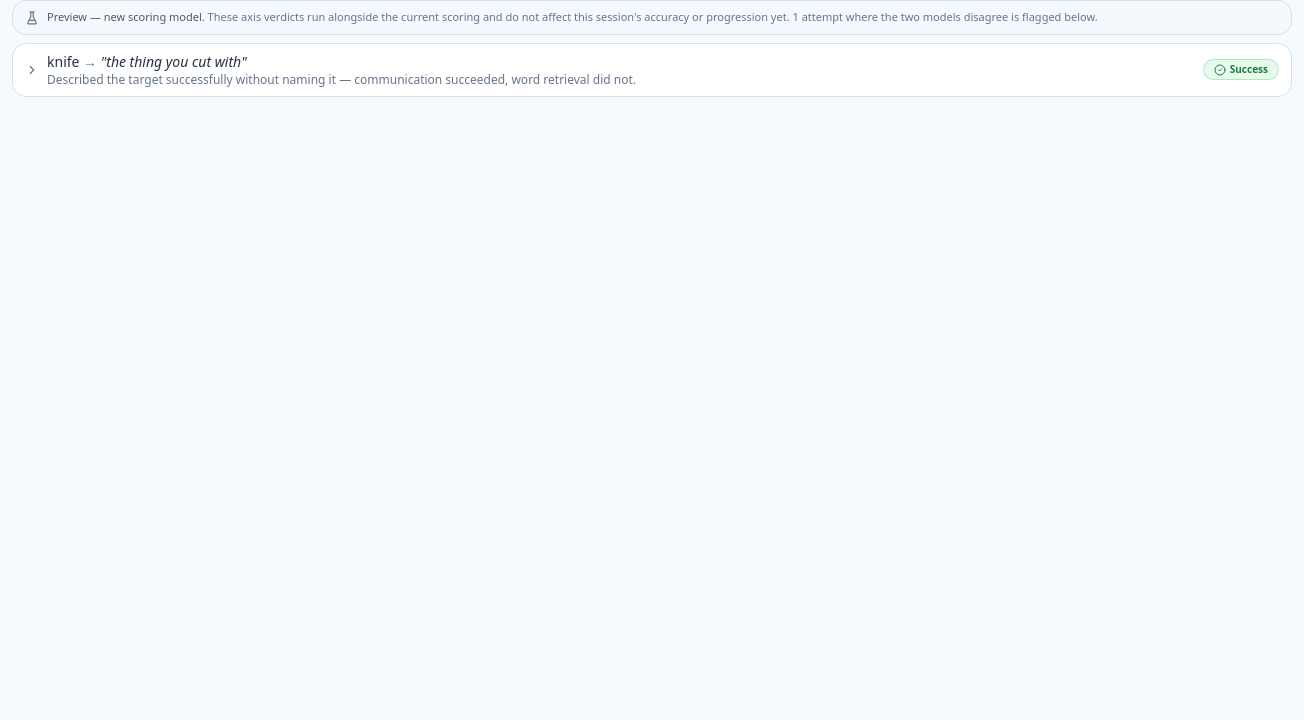
Scenario: AxisEvidencePanel › derives advisory axes from persisted evidence and tags them advisory (Phase 3)
Click the button at (63, 61), box [13,44,1291,96]
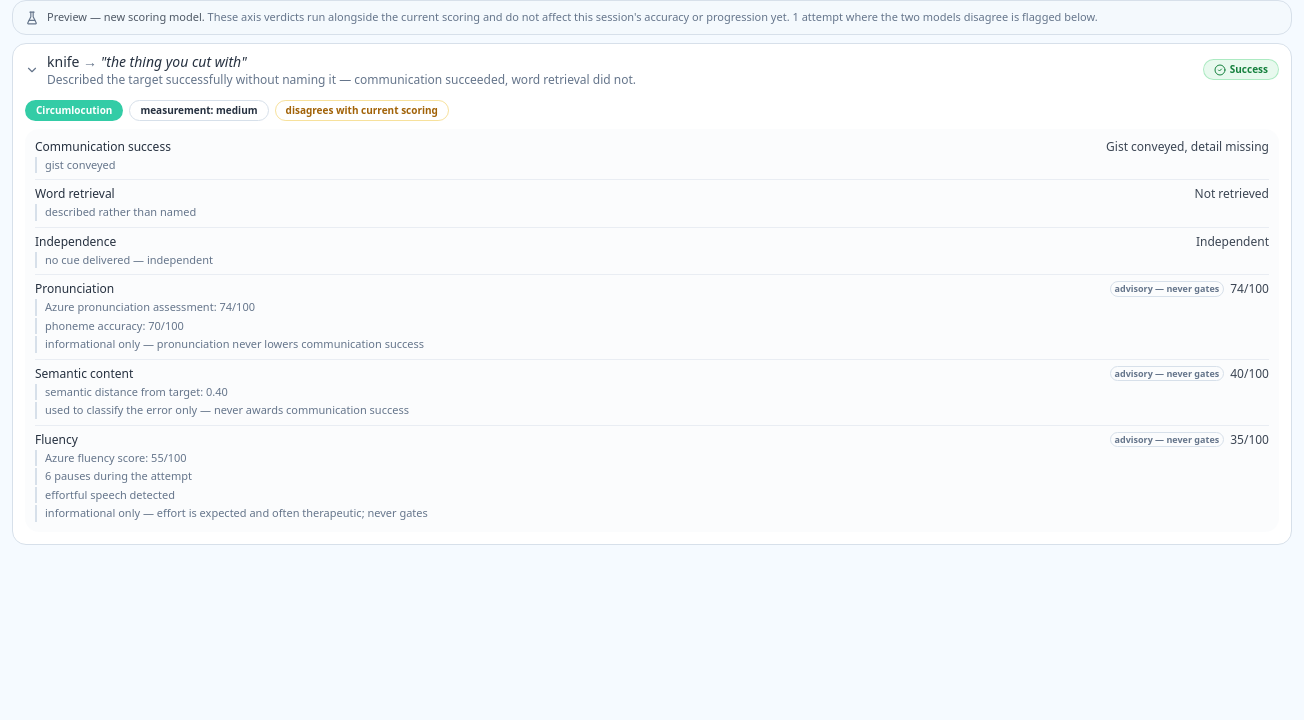
Expected: the text "Pronunciation" is shown, [35,281,114,297]
Expected: the text "Fluency" is shown, [35,432,78,448]
Expected: the text "Semantic content" is shown, [35,366,133,382]
